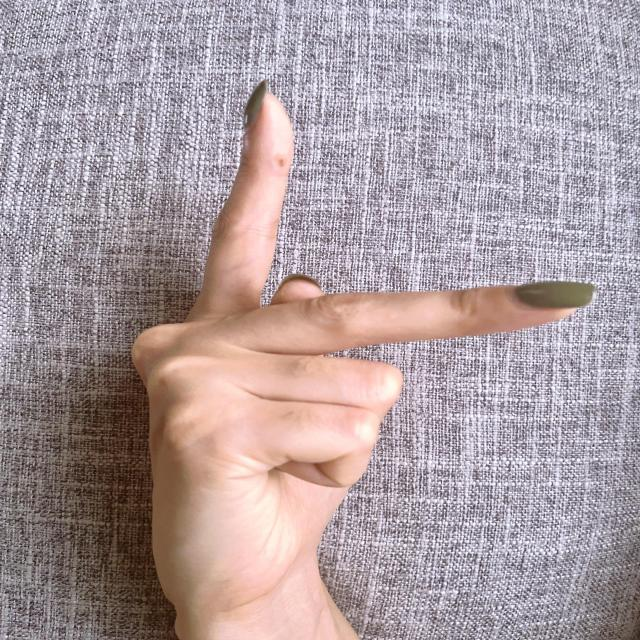K: (128, 82, 599, 604)
